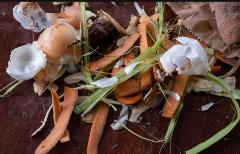organic: (37, 20, 81, 68), (164, 35, 210, 77), (6, 42, 48, 86), (46, 85, 74, 144)
